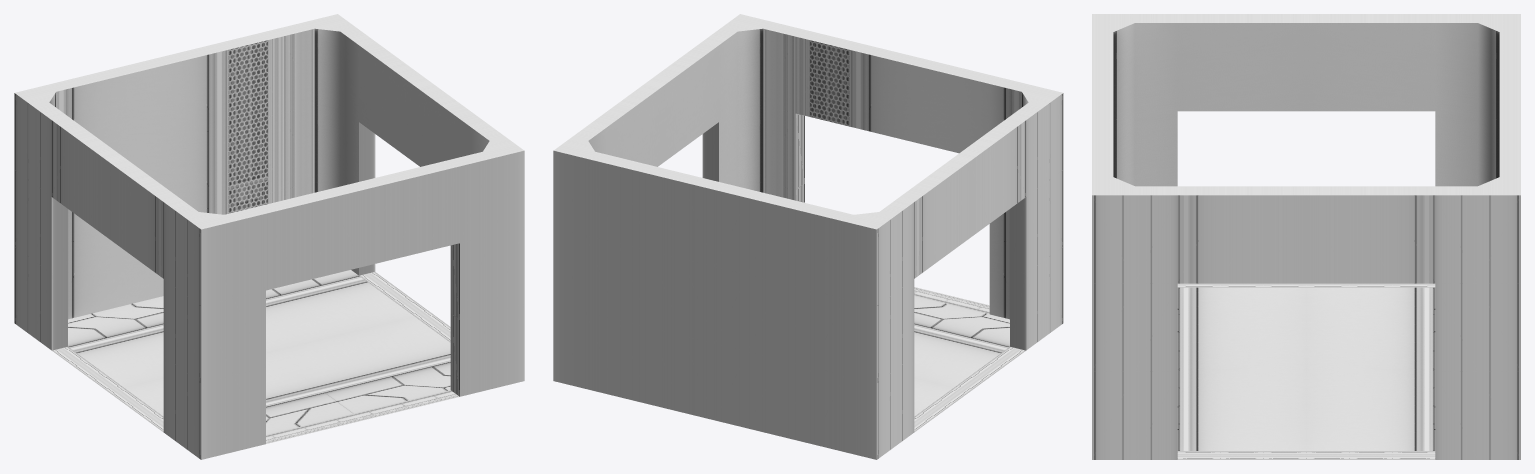
The model's file is Raum_3_Eingange.fbx.
3 renders of one model, left to right at view 1: azimuth 30°, elevation 25°; view 2: azimuth 150°, elevation 25°; view 3: azimuth 270°, elevation 25°, orthographic. The views are drawn at different scales.
Visible parts, largest first — view 1: pPlane2; view 2: pPlane2; view 3: pPlane2.
Part boxes in pixels (x1,y1,x2,y2): pPlane2: (14,14,524,459); pPlane2: (553,14,1063,459); pPlane2: (1092,14,1520,459).
Bounding box in the file's own units: 10 × 6.81 × 10.
Materials: 1 (1 with a texture image).
